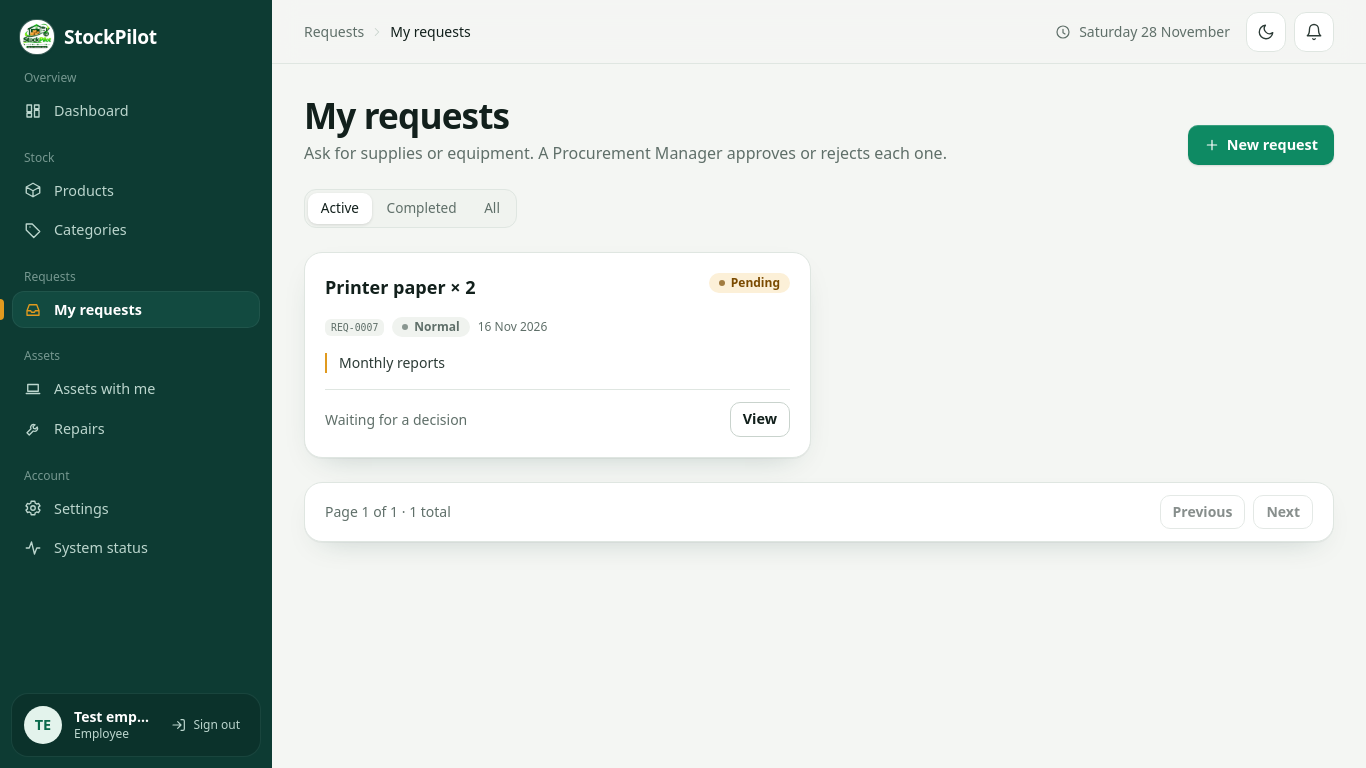
it: request pop-ups › ask before cancelling, and Keep it changes nothing
Step 1. Click the button with aria-label "View request for Printer paper" → (760, 420), box [730,402,790,437]
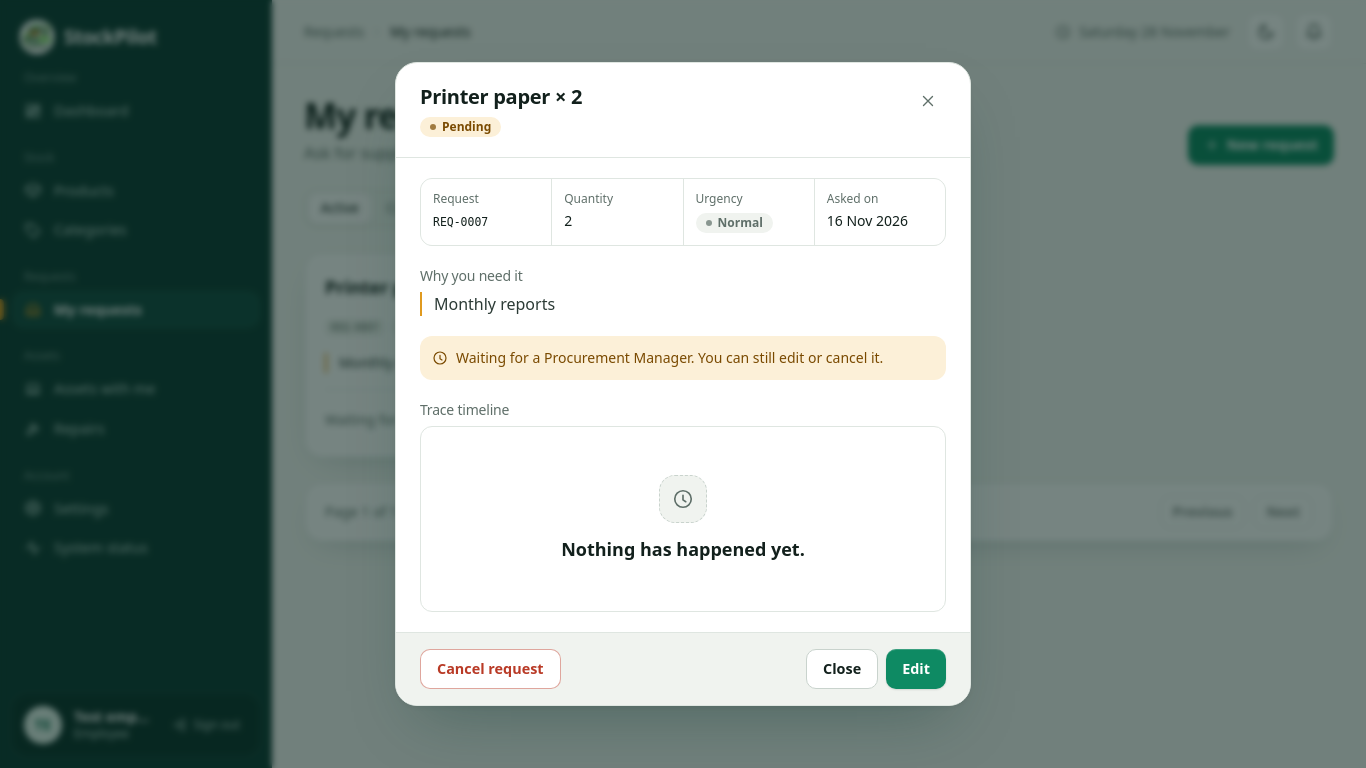
Step 2. Click the button "Cancel request" → (490, 669), box [420,649,561,689]
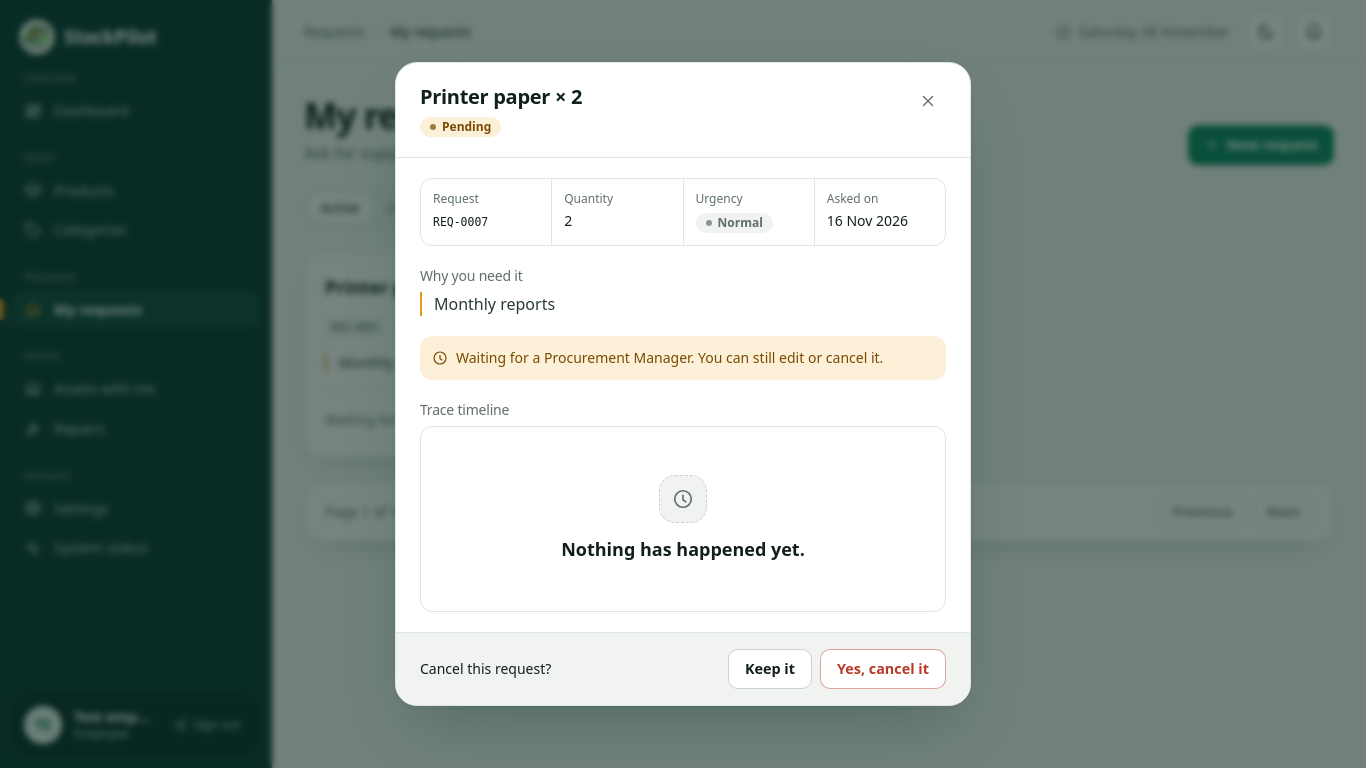
Check: the text "Cancel this request?" is shown, box [420,659,551,679]
Step 3. Click the button "Keep it" → (770, 669), box [728,649,812,689]
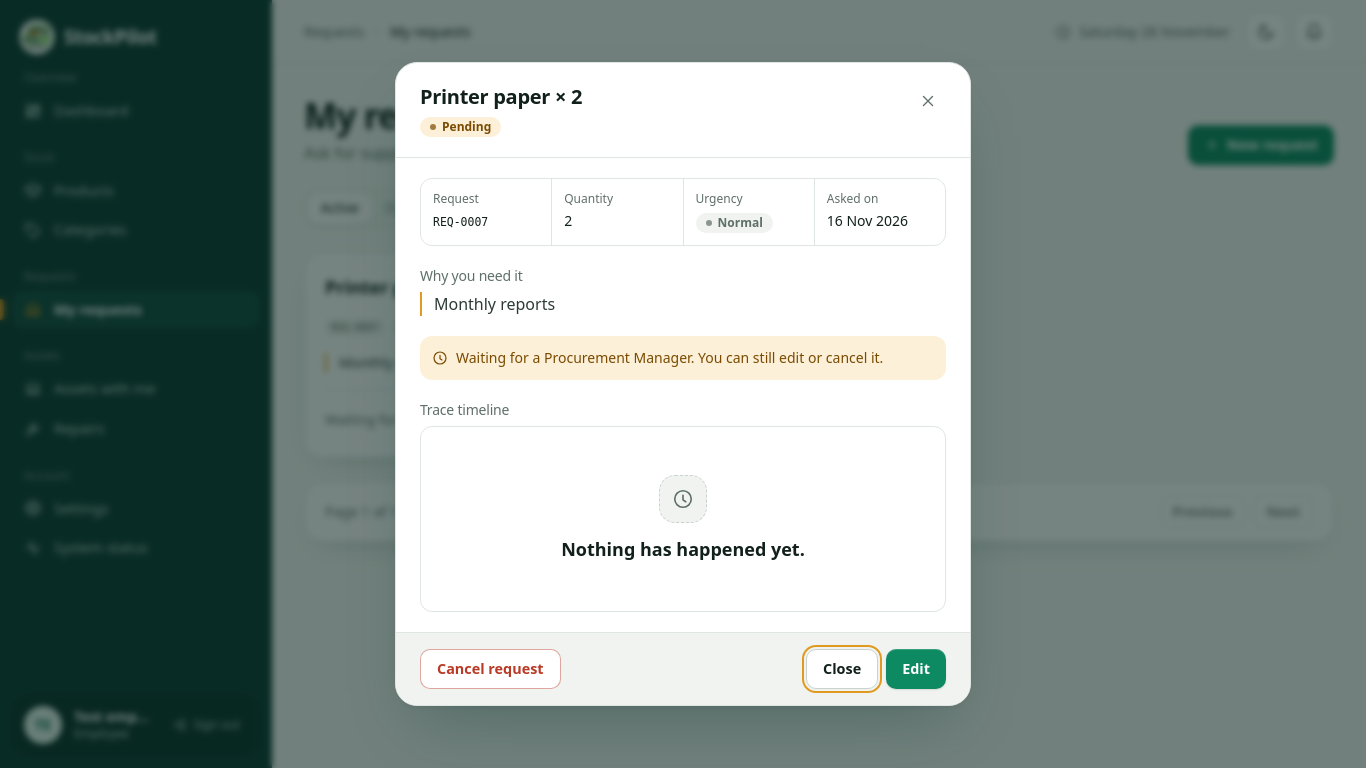
Check: the button "Cancel request" is shown, box [420,649,561,689]
